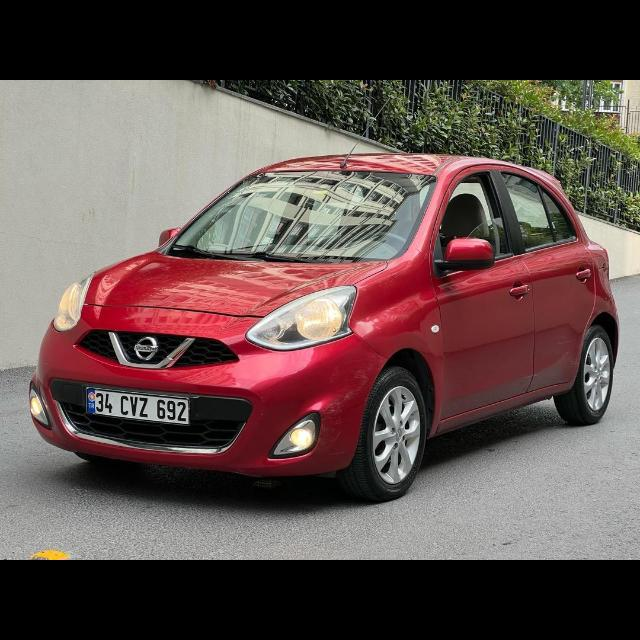Plaka: (88, 388, 190, 426)
